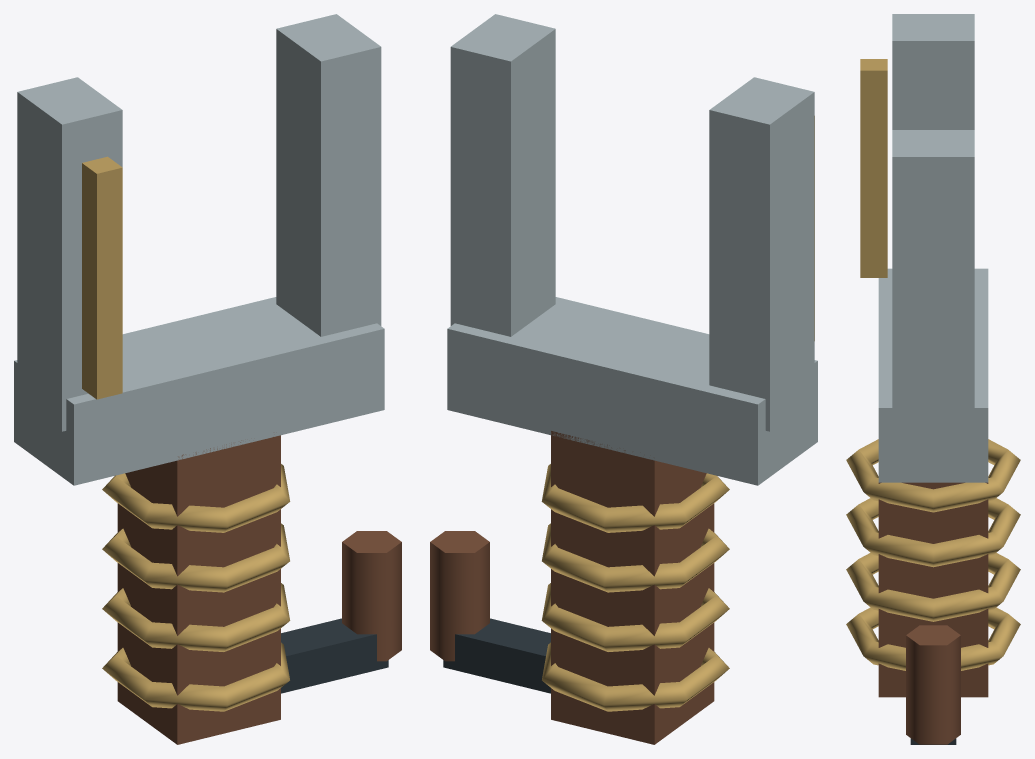
The model's file is fixed-coilKey-lod1.glb.
The picture shows the model from 3 angles, left to right: view 1: azimuth 30°, elevation 25°; view 2: azimuth 150°, elevation 25°; view 3: azimuth 270°, elevation 25°; orthographic projection. The views are drawn at different scales.
Visible parts, largest first — view 1: piece_whole; view 2: piece_whole; view 3: piece_whole.
Part boxes in pixels (box(x1,y1,x2,y2)): piece_whole: box(14, 14, 401, 744); piece_whole: box(430, 14, 817, 744); piece_whole: box(846, 14, 1020, 744).
Size of the model in its own units: 0.411 by 0.71 by 0.1911.
